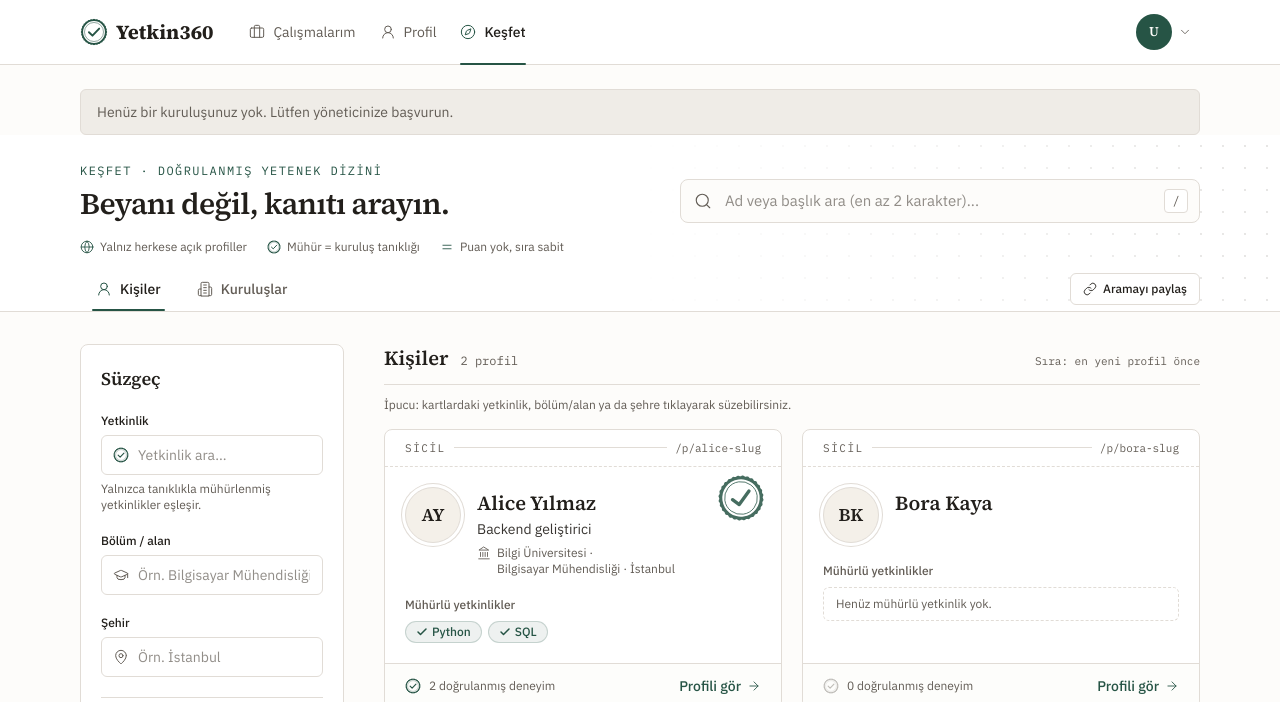
Scenario: KesfetPage (/kesfet) › Öğrenciler sekmesi › yetkinlik önerisine tıklanınca skill_id filtresi eklenir ve çip görünür
The width and height of the screenshot is (1280, 702).
Expected: the heading "Alice Yılmaz" is shown, [477,489,596,517]
Type "pyt" into the field labelled "Yetkinlik" at (212, 454), box [101,434,323,474]
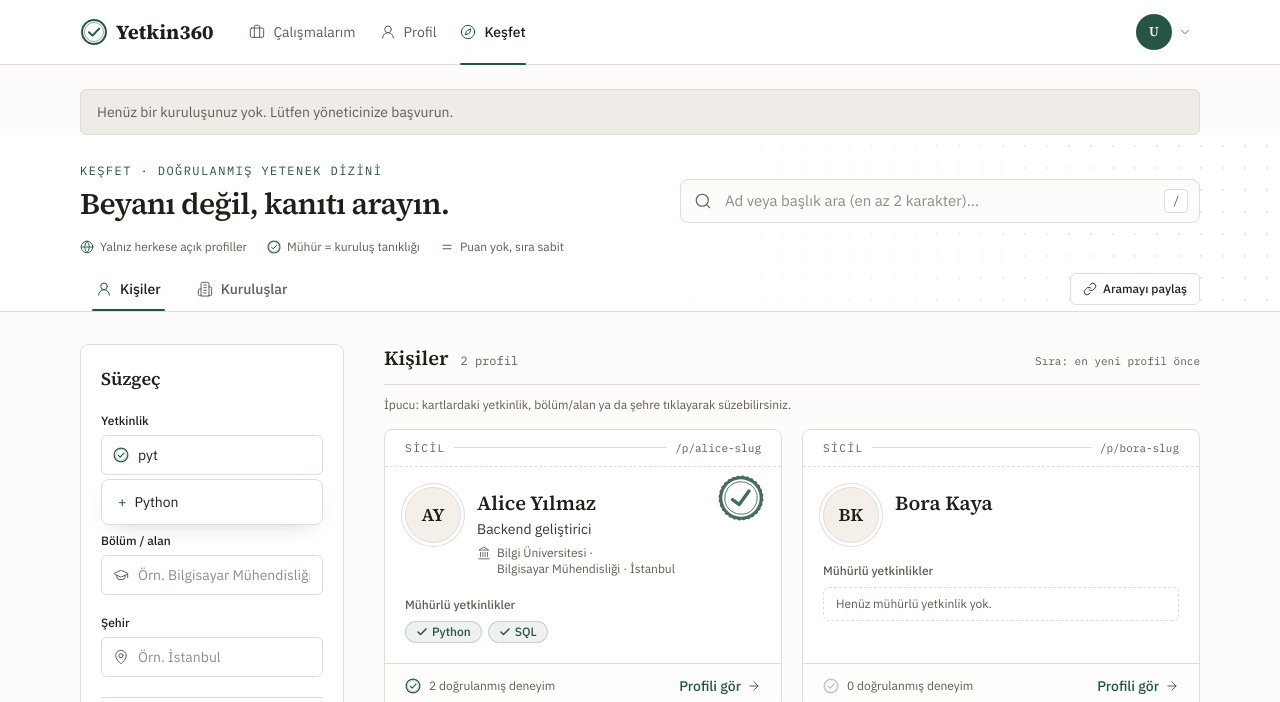
Click the button "+ Python" at (212, 502), box [106,484,318,520]
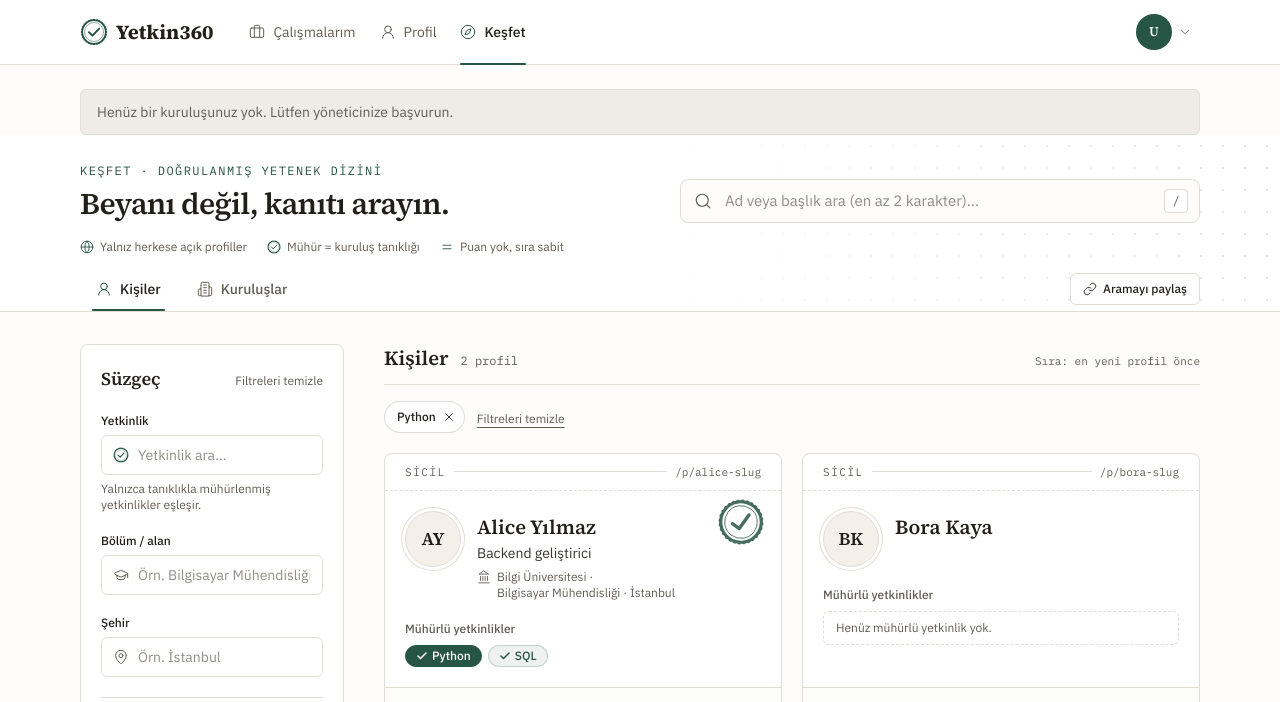
Now the button with aria-label "Python filtresini kaldır" is shown, box [384,400,465,432]
